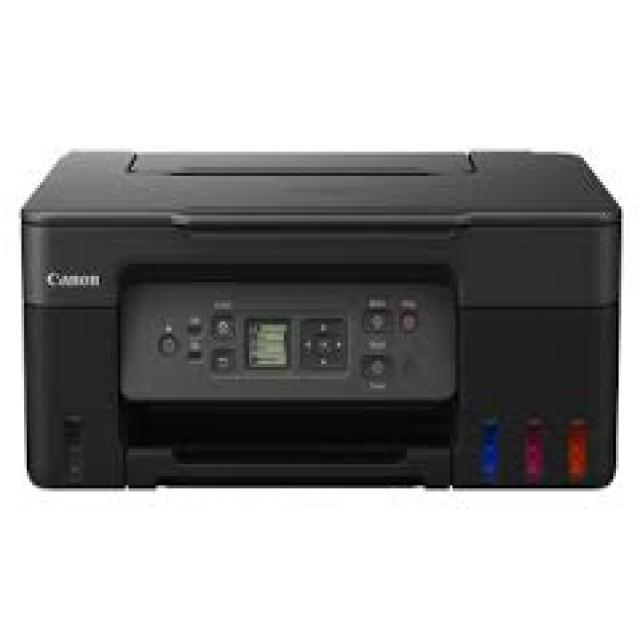printer: (7, 122, 634, 532)
